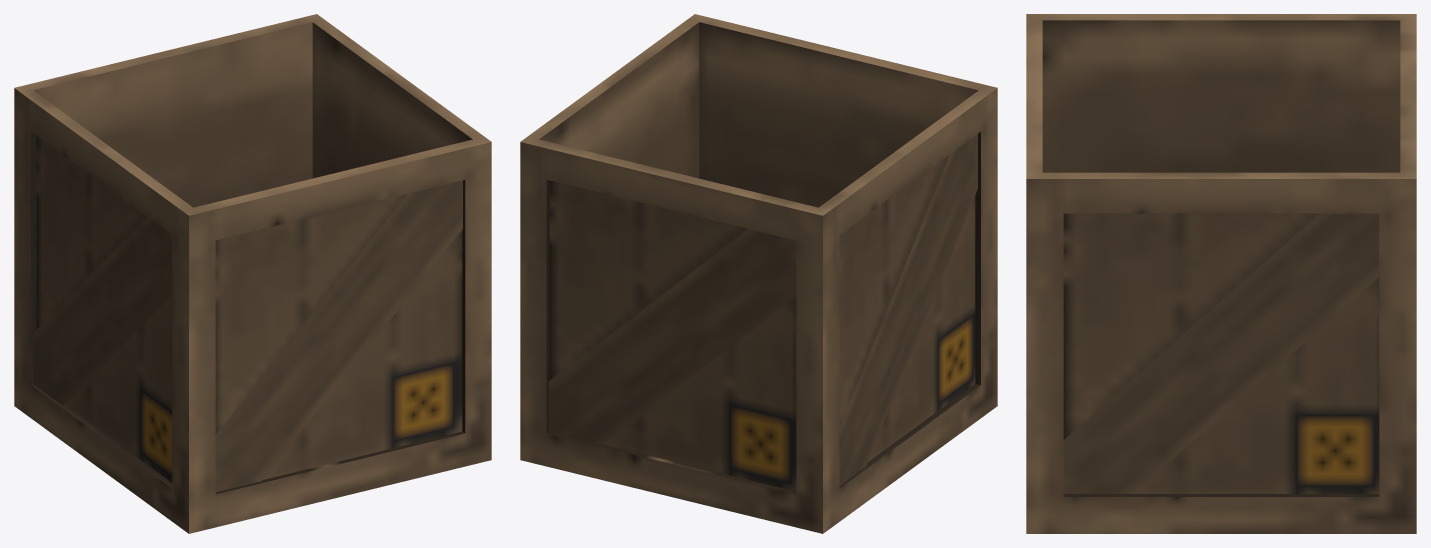
The picture shows the model from 3 angles, left to right: view 1: azimuth 30°, elevation 25°; view 2: azimuth 150°, elevation 25°; view 3: azimuth 270°, elevation 25°; orthographic projection. The views are drawn at different scales.
Parts seen in each view (by area): view 1: Cube.001; view 2: Cube.001; view 3: Cube.001.
Part boxes in pixels (left/top/right/bottom): Cube.001: left=14, top=14, right=491, bottom=533; Cube.001: left=520, top=14, right=997, bottom=533; Cube.001: left=1026, top=14, right=1416, bottom=533.
Size of the model in its own units: 457 by 459 by 457.
1 material, 1 textured.
